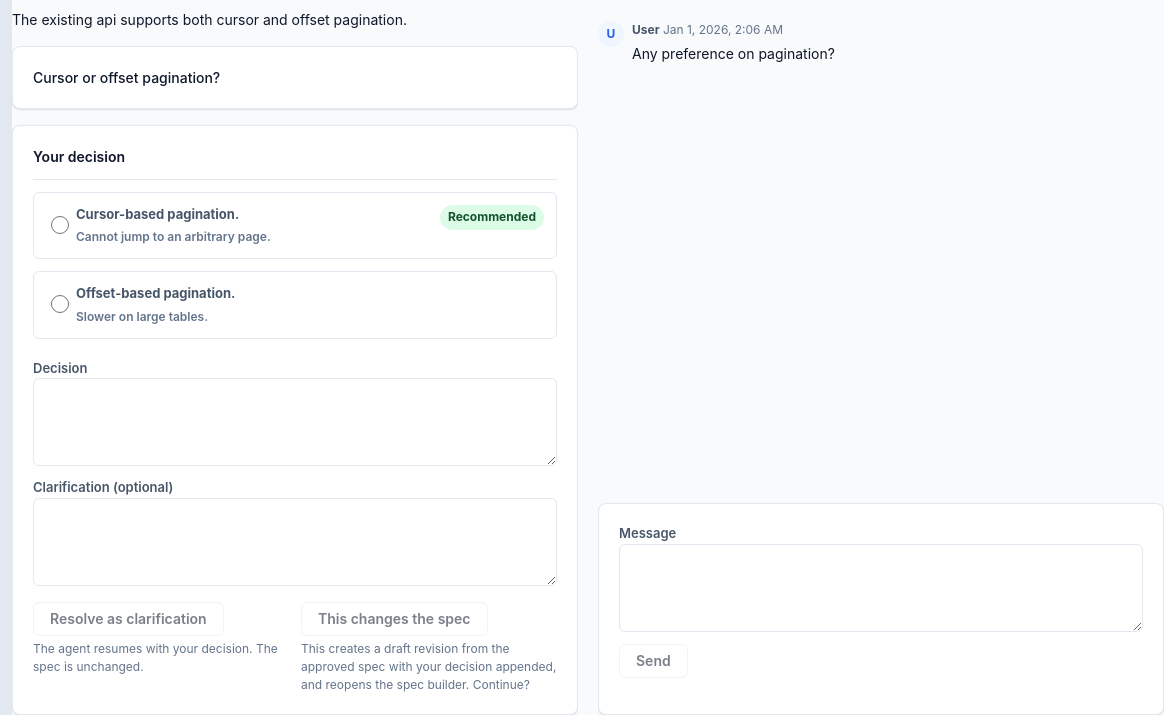
Scenario: IssueDetailView › posts a message and refetches the thread (AC3)
This screenshot has width=1164, height=715.
(page scrolled)
Type "cursor please" into the text box with test id "composer-text". click: (881, 588)
box: [619,544,1143,632]
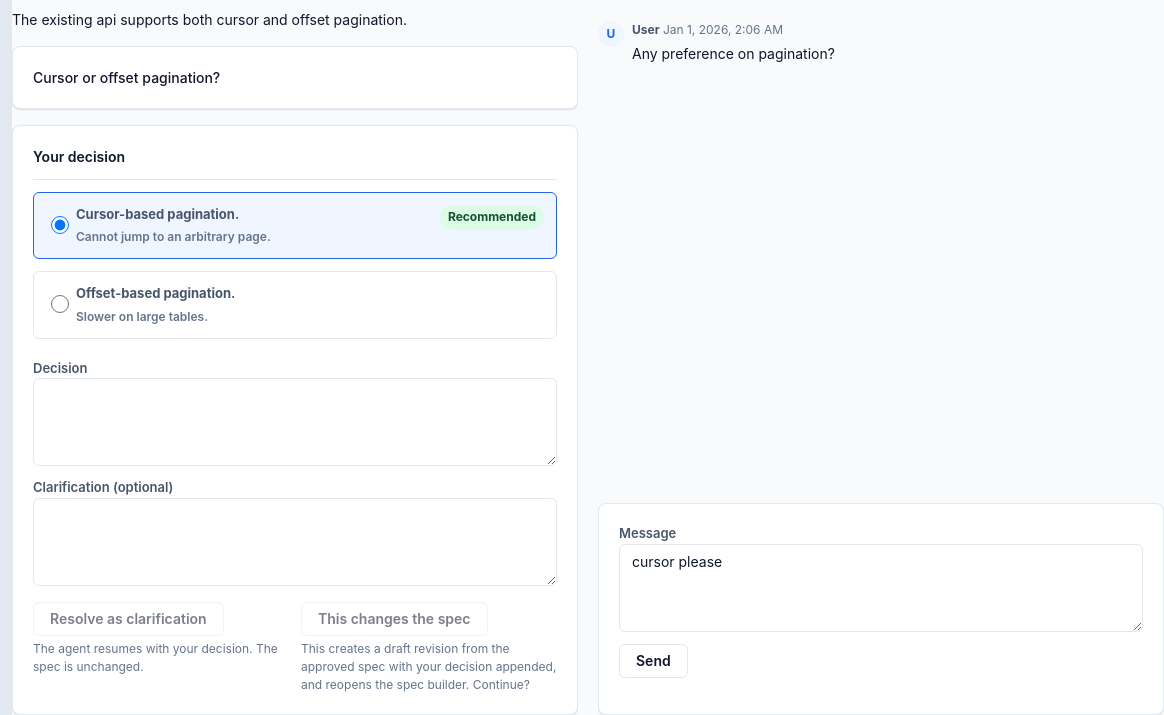
Click the button "Send". click: (653, 661)
box: [619,644,688,678]
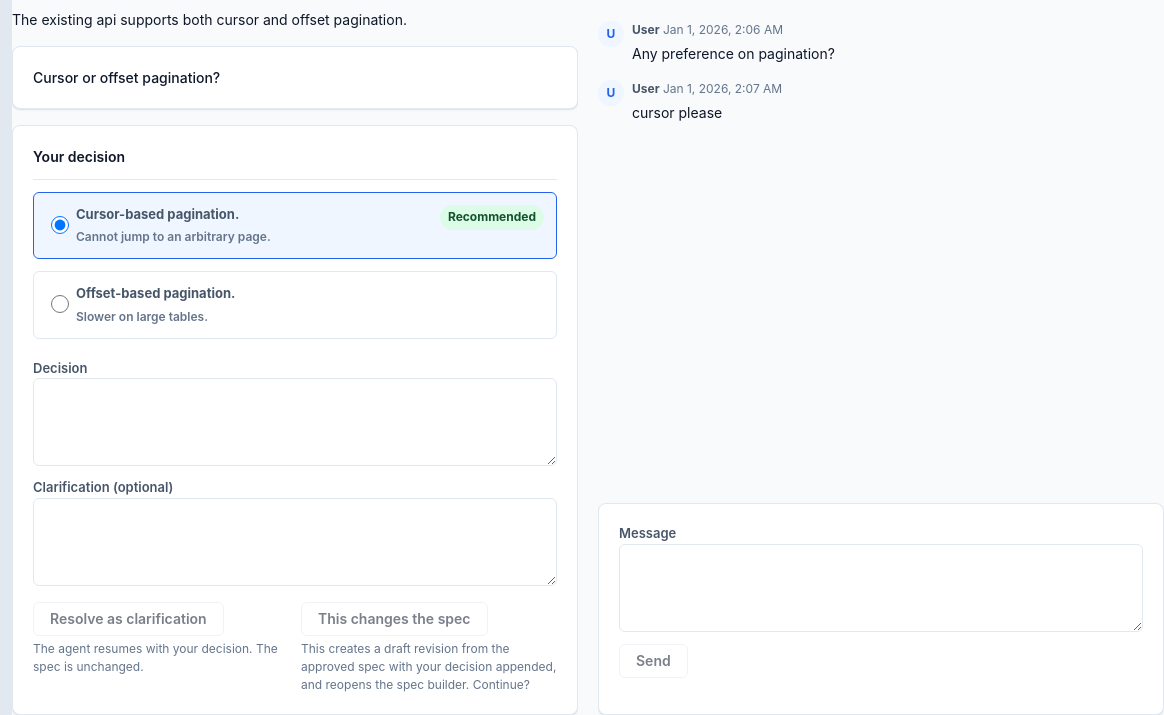
Expected: the number of list items with test id "thread-message" is 2, [598,21,835,62]; [598,80,782,121]
